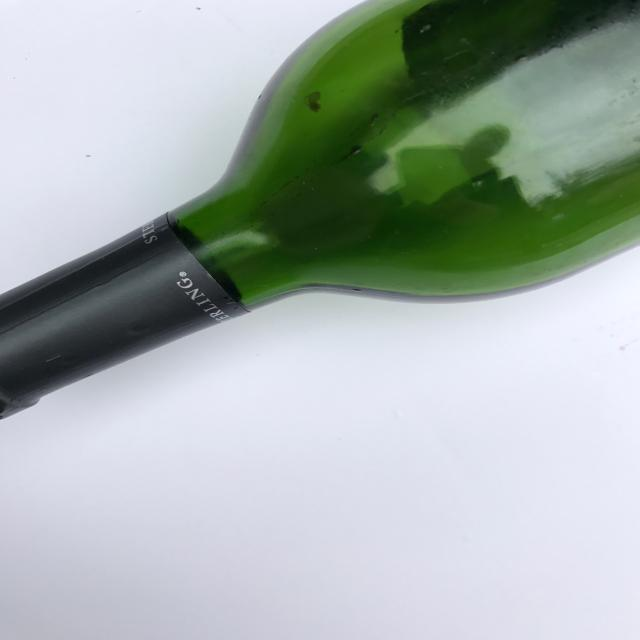glass: (0, 0, 640, 422)
